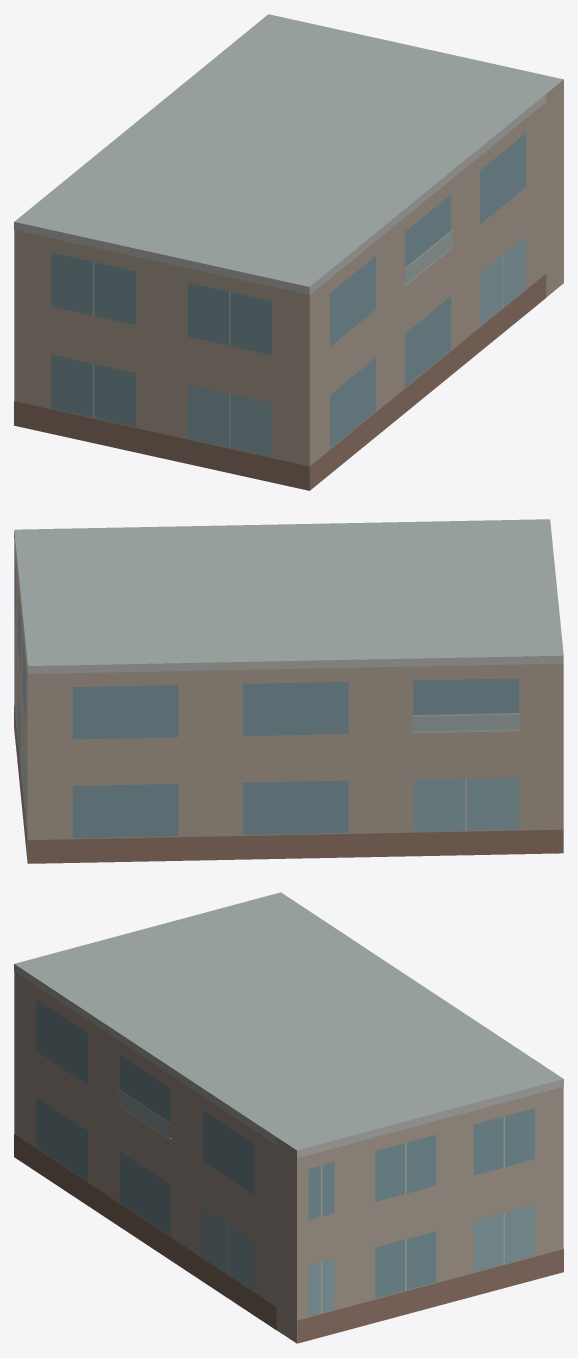
The model's file is survey-upis-33027662.glb.
The picture shows the model from 3 angles, top to bottom: view 1: azimuth 30°, elevation 25°; view 2: azimuth 150°, elevation 25°; view 3: azimuth 270°, elevation 25°; orthographic projection. The views are drawn at different scales.
Visible parts, largest first — view 1: survey-upis-33027662.tmp; view 2: survey-upis-33027662.tmp; view 3: survey-upis-33027662.tmp.
Boxes of the visible parts, bbox=[...] form: survey-upis-33027662.tmp: bbox=[14, 14, 563, 490]; survey-upis-33027662.tmp: bbox=[14, 519, 563, 863]; survey-upis-33027662.tmp: bbox=[14, 892, 563, 1343].
Bounding box in the file's own units: 17.5 × 6.1 × 15.74.
